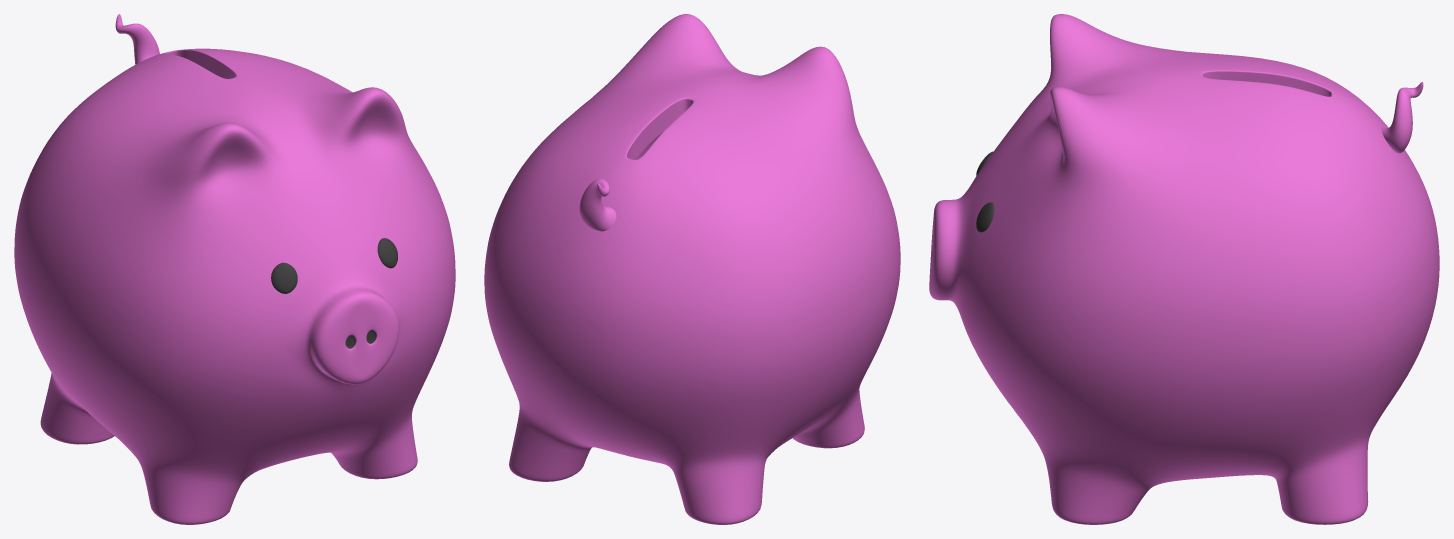
File: piggy-bank-user.glb
The picture shows the model from 3 angles, left to right: view 1: azimuth 30°, elevation 25°; view 2: azimuth 150°, elevation 25°; view 3: azimuth 270°, elevation 25°; orthographic projection. The views are drawn at different scales.
Visible parts, largest first — view 1: UserPiggyShell, UserPiggyEyes; view 2: UserPiggyShell; view 3: UserPiggyShell.
Boxes of the visible parts, x1=… form: UserPiggyShell: x1=14, y1=14, x2=455, y2=524; UserPiggyEyes: x1=271, y1=238, x2=397, y2=348; UserPiggyShell: x1=484, y1=14, x2=900, y2=524; UserPiggyShell: x1=929, y1=14, x2=1439, y2=524.
Bounding box in the file's own units: 2.26 × 2.35 × 2.65.
